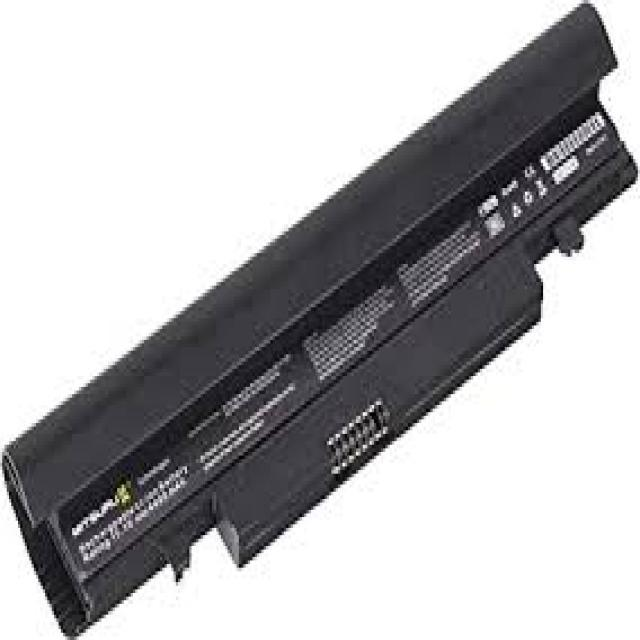Battery: (0, 0, 640, 623)
